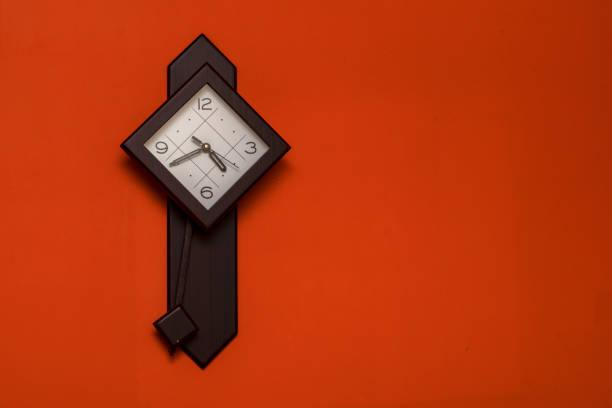clock: (141, 88, 273, 211)
